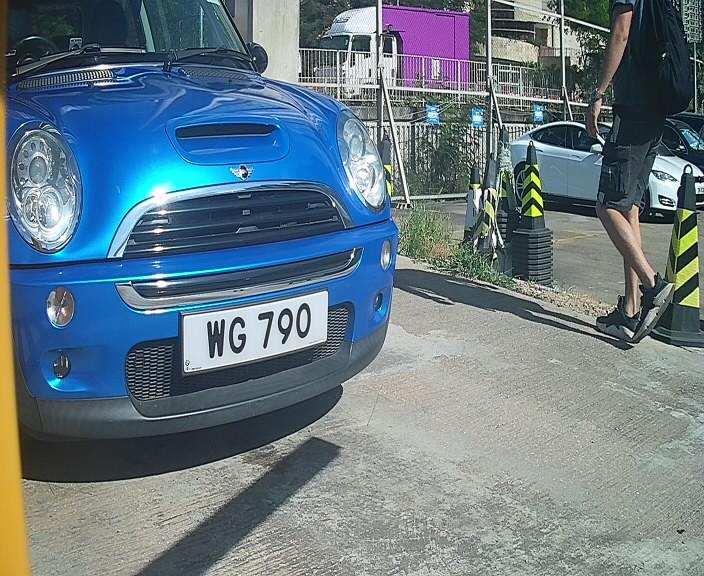License Plate: (183, 286, 331, 379)
